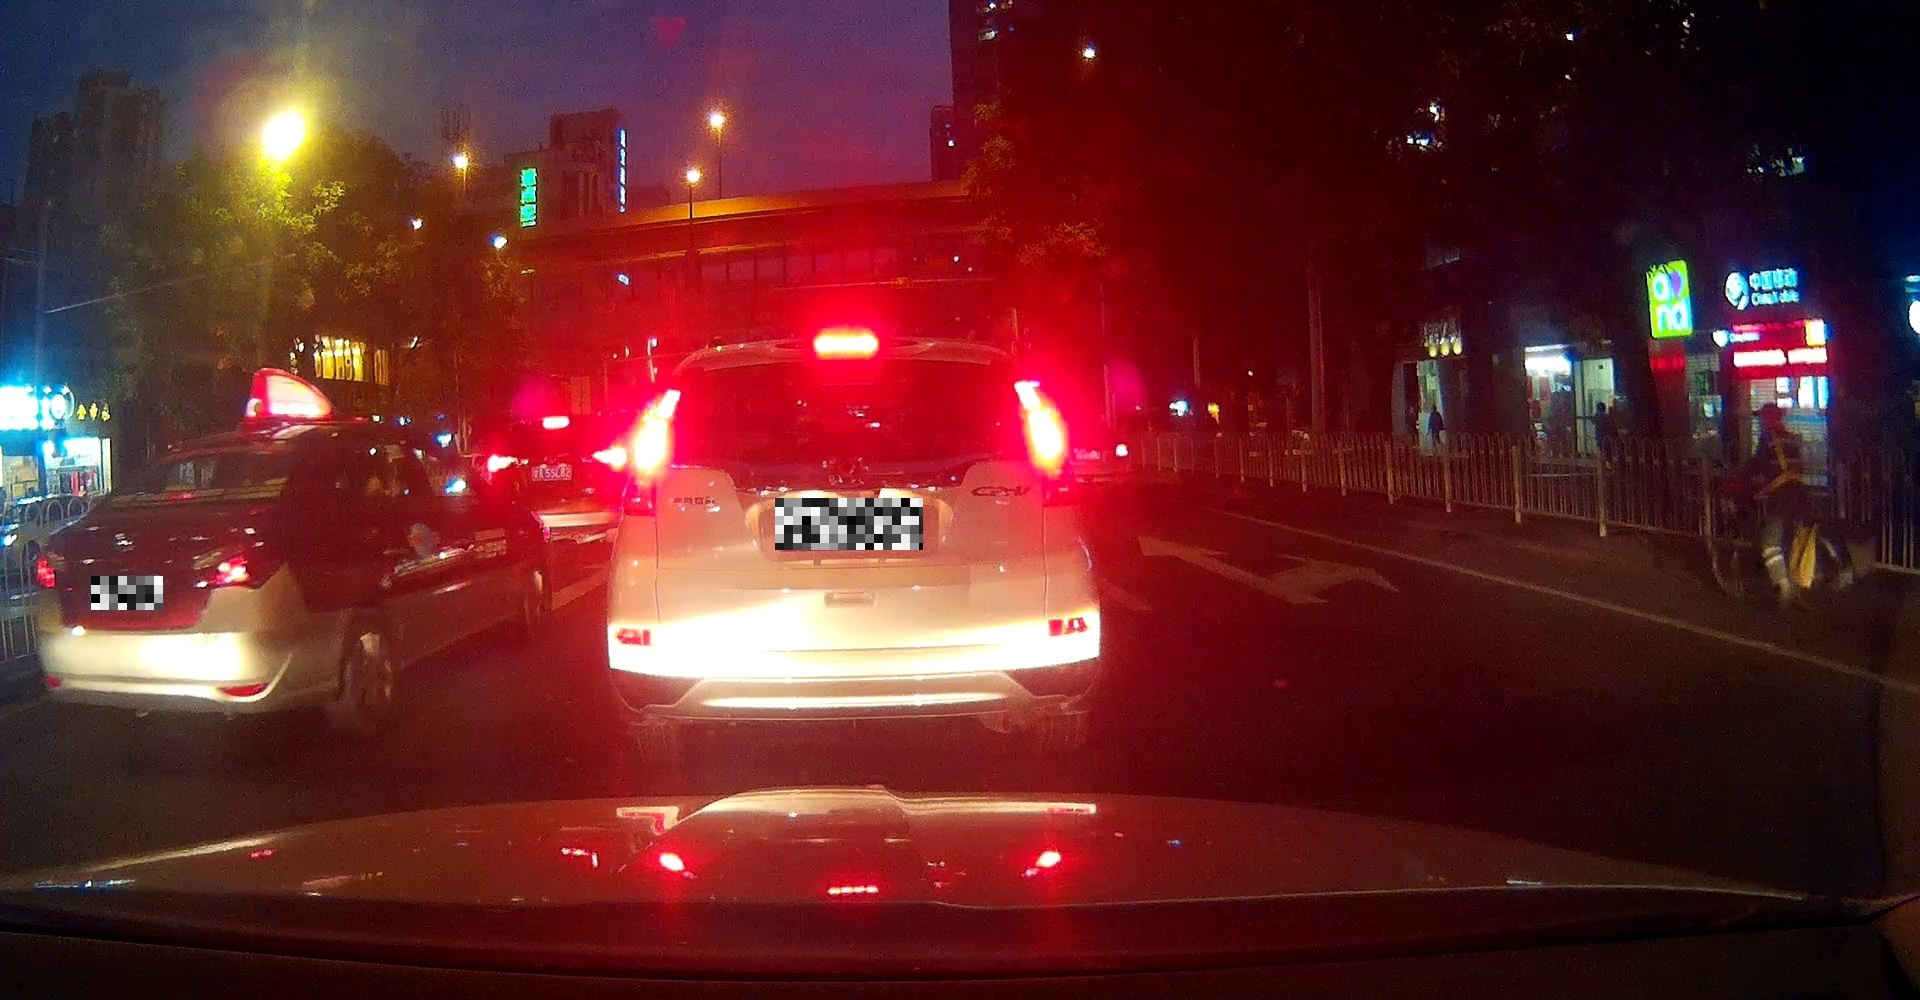L_light: (618, 390, 681, 516), (36, 551, 70, 590)
R_light: (1015, 379, 1079, 506), (190, 537, 284, 588)
T_light: (814, 336, 879, 354), (168, 491, 198, 499)
night-brake: (604, 329, 1103, 755), (30, 426, 317, 735)
plate_1: (91, 576, 163, 610)
plate_2: (775, 497, 923, 549)
